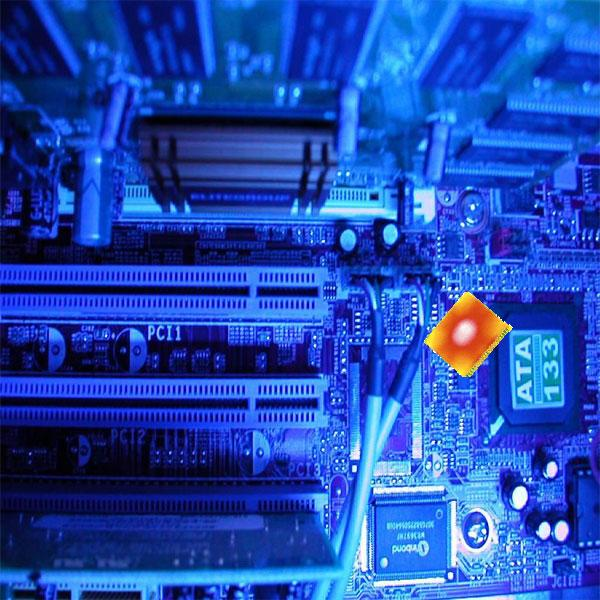componente_T: (422, 288, 517, 379)
